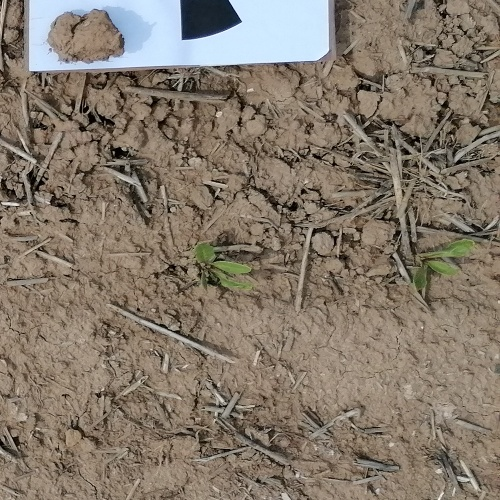beet: (410, 240, 474, 296), (196, 241, 252, 294)
